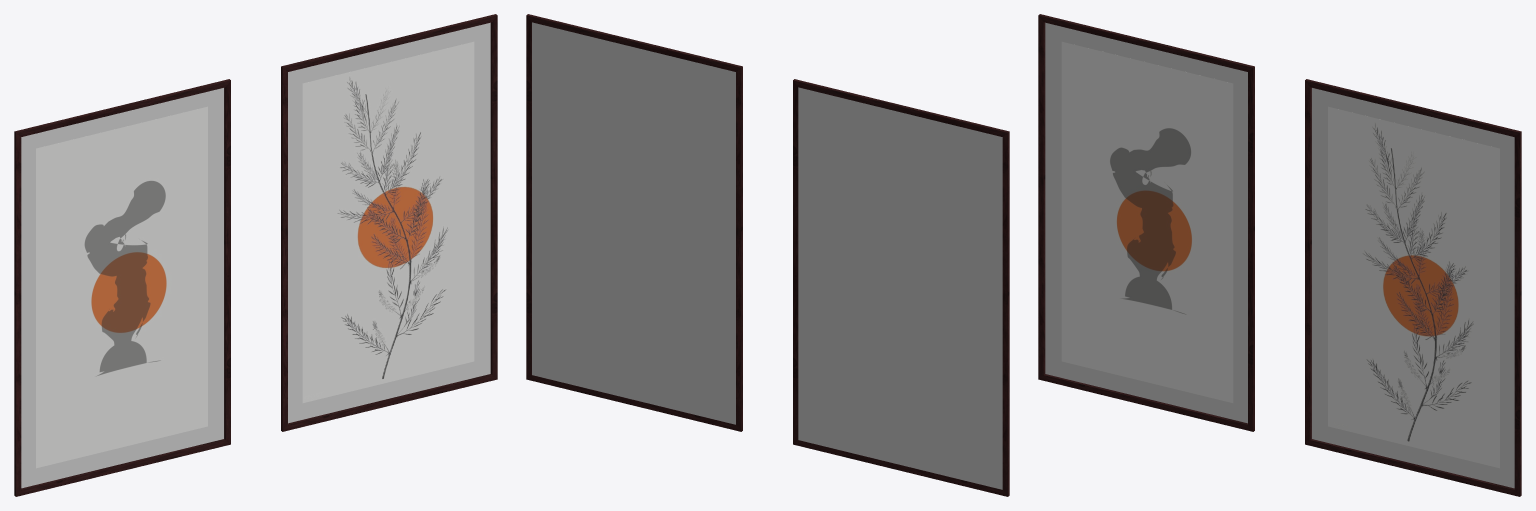
The model's file is Frame.glb.
3 views of the same model, side by side, from view 1: azimuth 30°, elevation 25°; view 2: azimuth 150°, elevation 25°; view 3: azimuth 330°, elevation 25° (orthographic).
Parts seen in each view (by area): view 1: glass, glass.001, picture, picture.001, bg, bg.001, frame.001, frame; view 2: bg.001, bg, frame.001, frame; view 3: glass.001, glass, picture.001, picture, bg.001, bg, frame, frame.001.
Boxes of the visible parts, box(x1,y1,x2,y2) form: glass: box(288, 23, 490, 422); glass.001: box(21, 88, 223, 487); picture: box(302, 41, 474, 402); picture.001: box(36, 106, 207, 468); bg: box(288, 22, 490, 423); bg.001: box(21, 88, 223, 488); frame.001: box(14, 79, 230, 496); frame: box(281, 14, 497, 431); bg.001: box(798, 87, 1002, 489); bg: box(532, 22, 735, 424); frame.001: box(793, 79, 1009, 496); frame: box(526, 14, 742, 431); glass.001: box(1045, 23, 1247, 422); glass: box(1312, 88, 1514, 487); picture.001: box(1061, 41, 1233, 402); picture: box(1328, 106, 1499, 468); bg.001: box(1045, 22, 1247, 423); bg: box(1312, 88, 1514, 488); frame: box(1305, 79, 1521, 496); frame.001: box(1038, 14, 1254, 431).
Bounding box in the file's own units: 1.17 × 0.8429 × 0.00732.
Materials: 5 (3 with a texture image).
